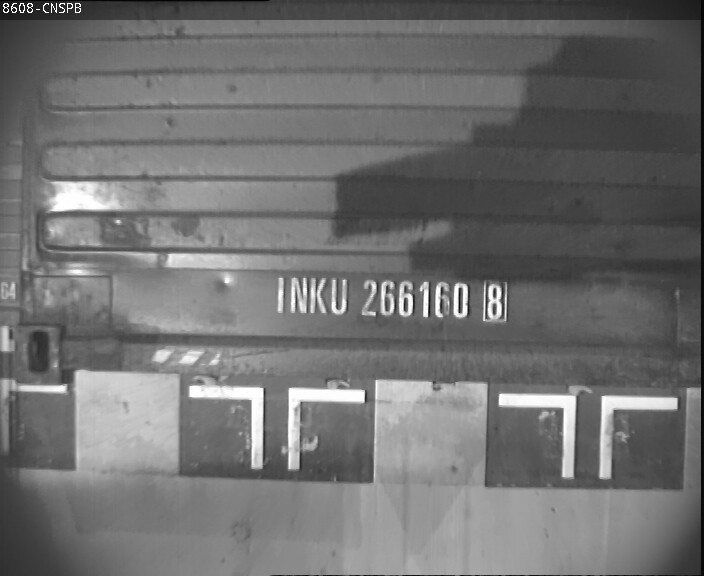groundmarker_1: (497, 392, 677, 480), (188, 383, 362, 470)
